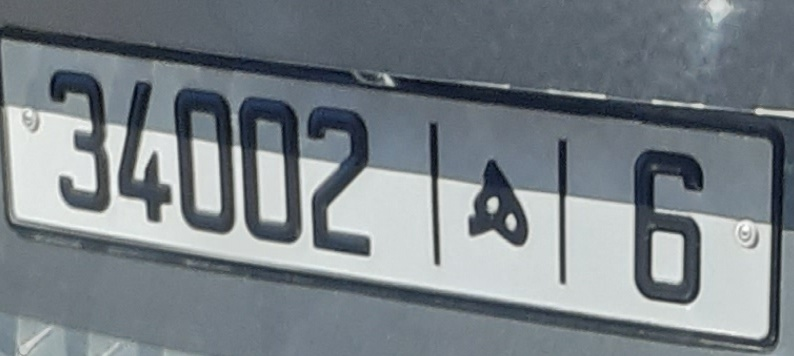0: (241, 87, 302, 247), (179, 88, 241, 238)
2: (297, 98, 378, 259)
3: (42, 60, 115, 221)
4: (115, 67, 169, 224)
6: (629, 138, 716, 317)
h: (458, 141, 533, 261)
